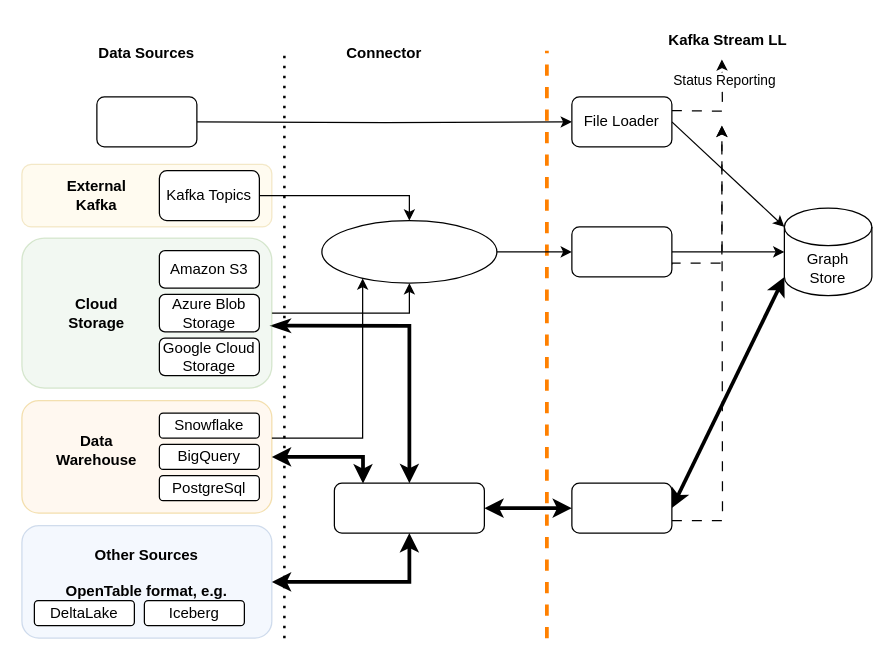
This 894x663 diagram has some shape labels left out. Here are the shapes that lost their labels. From the top down, the centre of each, then its label:
pixel 146 121: Local Files
pixel 409 251: Kafka Connect GSQL DATA_SOURCE
pixel 621 251: Kafka Loader
pixel 408 507: Spark Connector
pixel 621 507: RESTPP
